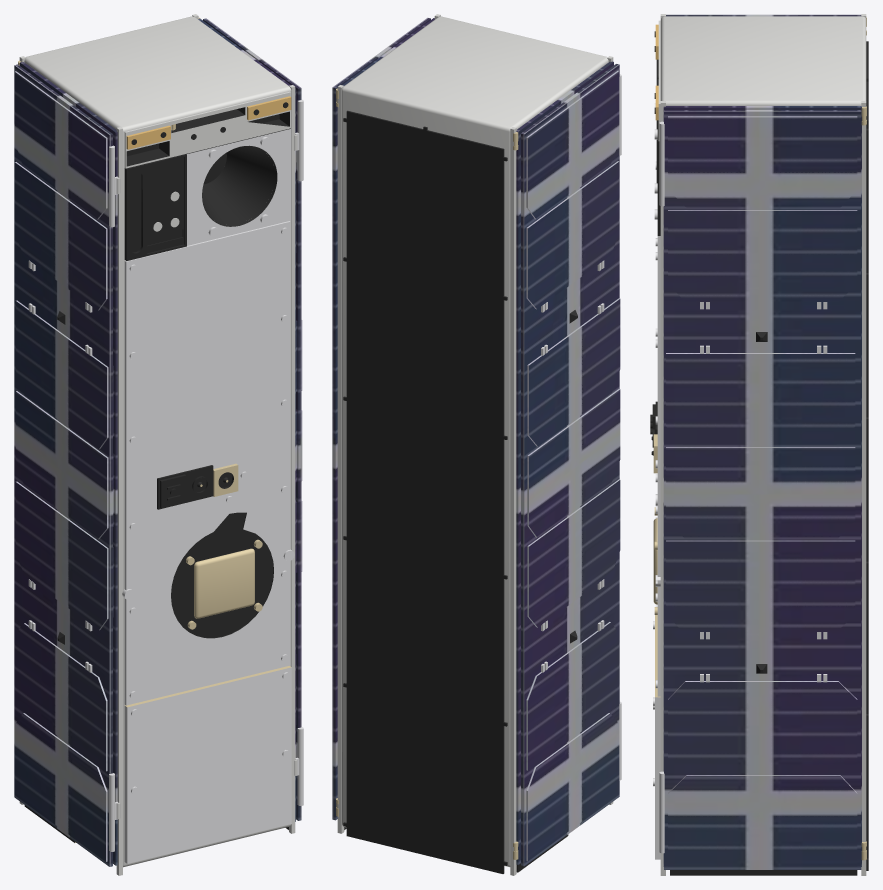
File: cubesat-icecube.glb
3 views of the same model, side by side, from view 1: azimuth 30°, elevation 25°; view 2: azimuth 150°, elevation 25°; view 3: azimuth 270°, elevation 25° (orthographic). The views are drawn at different scales.
Visible parts, largest first — view 1: Layer_0, Layer_2; view 2: Layer_0, Layer_2; view 3: Layer_2, Layer_0.
Part boxes in pixels (left/top/right/bottom): Layer_0: left=18, top=14, right=303, bottom=875; Layer_2: left=14, top=18, right=302, bottom=866; Layer_0: left=336, top=14, right=621, bottom=875; Layer_2: left=332, top=17, right=620, bottom=866; Layer_2: left=663, top=14, right=861, bottom=869; Layer_0: left=650, top=14, right=868, bottom=875.
Size of the model in its own units: 0.1104 by 0.3913 by 0.1001.
7 materials, 1 textured.
